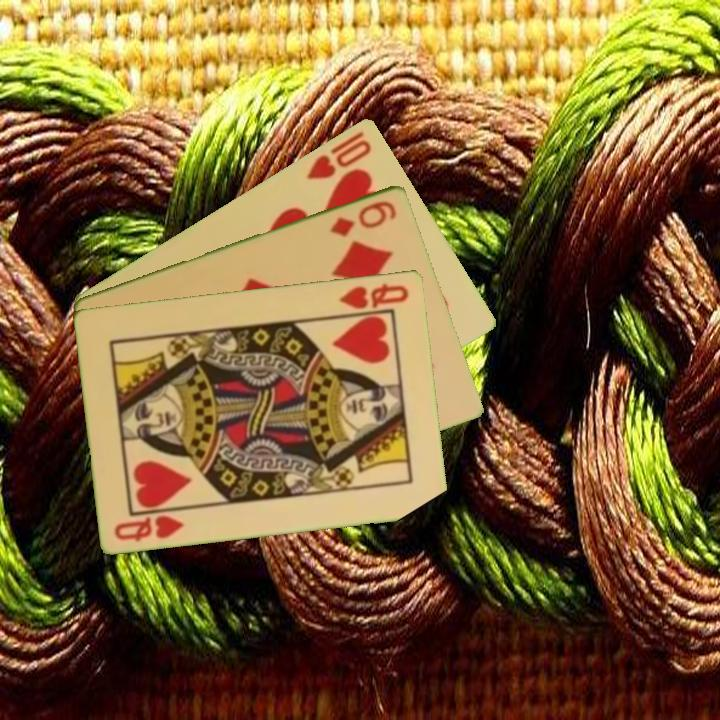10h: (302, 127, 375, 182)
6d: (327, 197, 400, 239)
Qh: (335, 279, 412, 312), (111, 511, 188, 544)
